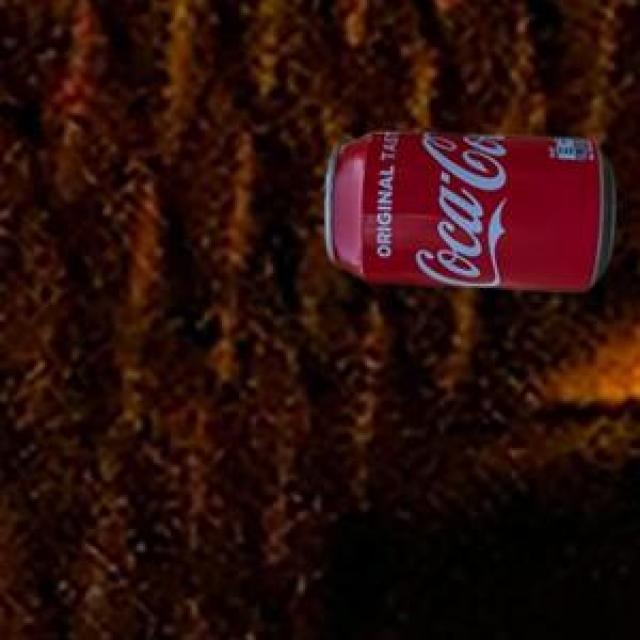logam: (323, 129, 613, 287)
